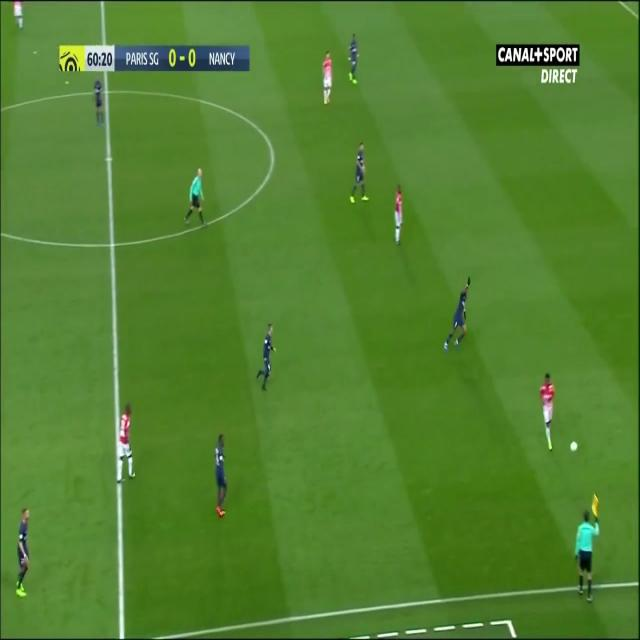Ball: (568, 436, 580, 456)
Player: (442, 275, 472, 353), (114, 400, 138, 489), (212, 427, 232, 523), (12, 506, 32, 600), (255, 320, 278, 394), (347, 140, 370, 208), (540, 370, 558, 453), (345, 31, 361, 89), (320, 48, 335, 108), (392, 184, 404, 248), (92, 77, 107, 127)
Referee: (572, 508, 600, 600), (182, 165, 210, 231)
